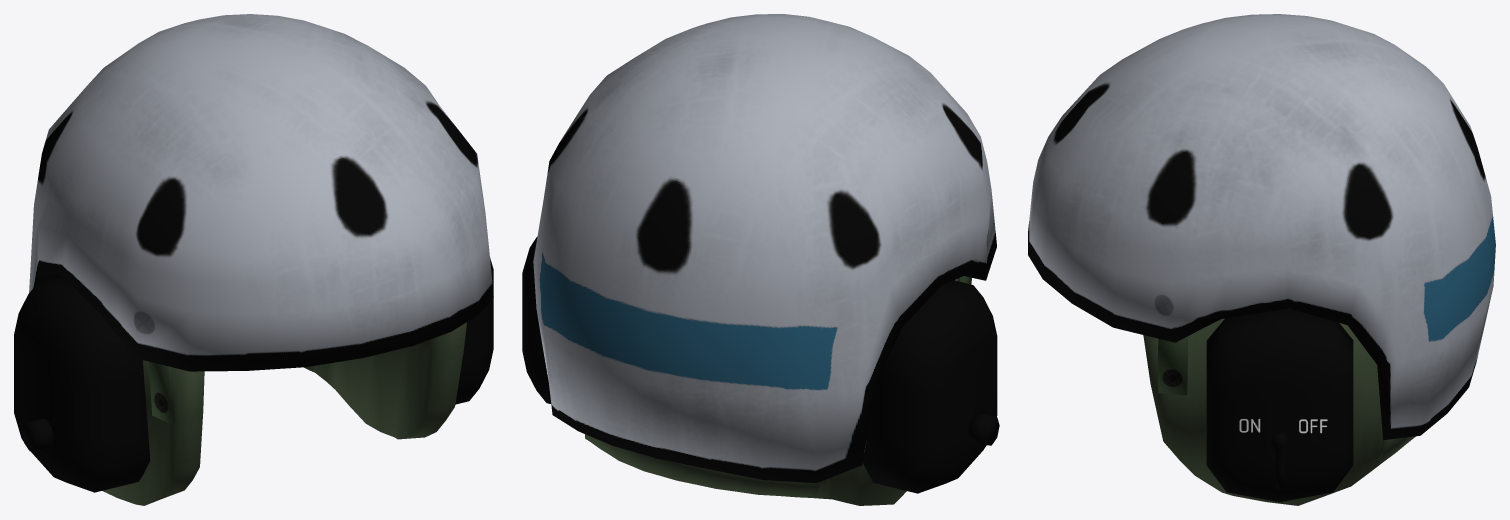
Rendered from XOFHelmet_WorldItem.fbx.
3 renders of one model, left to right at view 1: azimuth 30°, elevation 25°; view 2: azimuth 150°, elevation 25°; view 3: azimuth 270°, elevation 25°, orthographic. The views are drawn at different scales.
Parts seen in each view (by area): view 1: Cube.002; view 2: Cube.002; view 3: Cube.002.
Boxes of the visible parts, x1=… form: Cube.002: x1=14, y1=14, x2=493, y2=505; Cube.002: x1=522, y1=14, x2=999, y2=505; Cube.002: x1=1028, y1=14, x2=1495, y2=505.
Bounding box in the file's own units: 0.4063 × 0.3647 × 0.3837.
